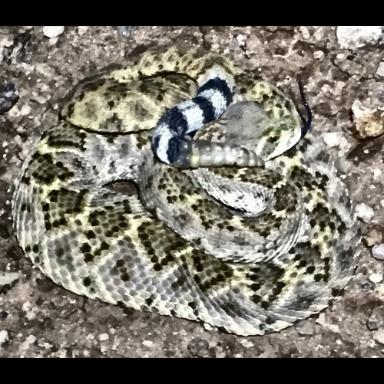snake: (13, 55, 347, 336)
